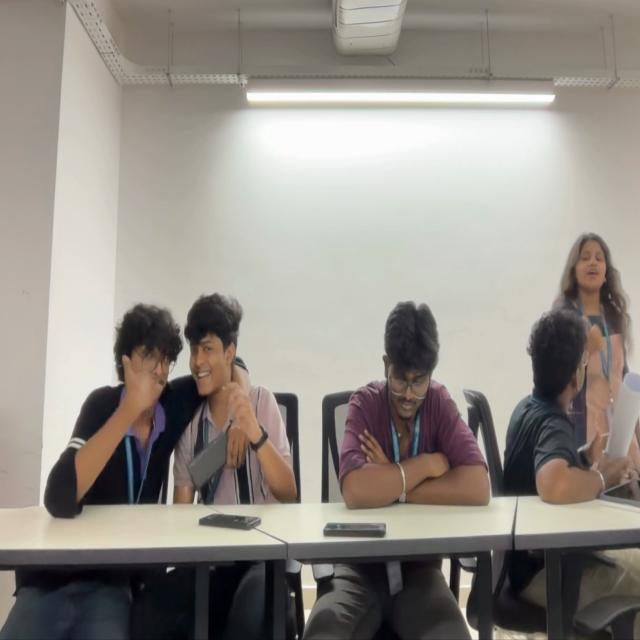Isolated: (340, 292, 490, 502)
socializing: (43, 291, 300, 506), (505, 229, 640, 501)
